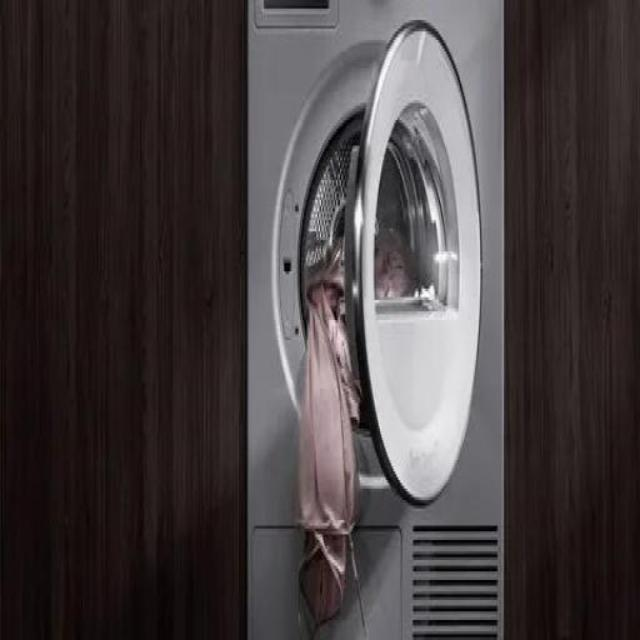Washing-Machine: (245, 0, 501, 638)
